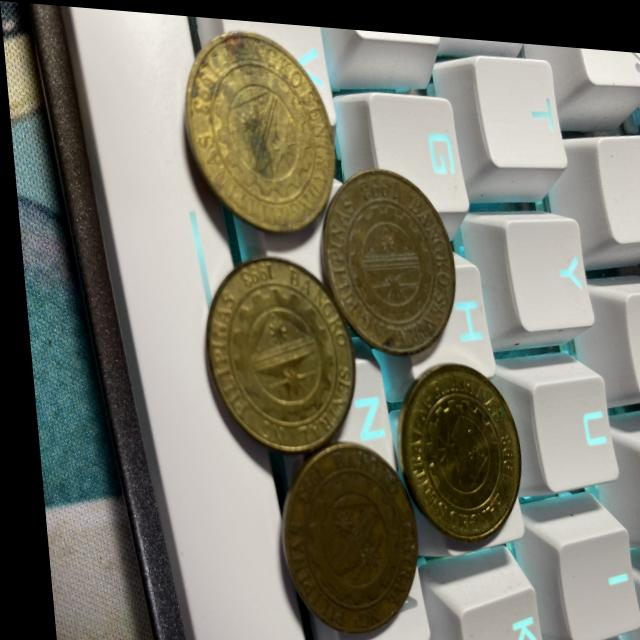25Cent_Old_Back: (177, 24, 342, 231), (200, 253, 351, 452), (266, 437, 412, 632), (313, 157, 456, 349), (393, 354, 525, 543)
